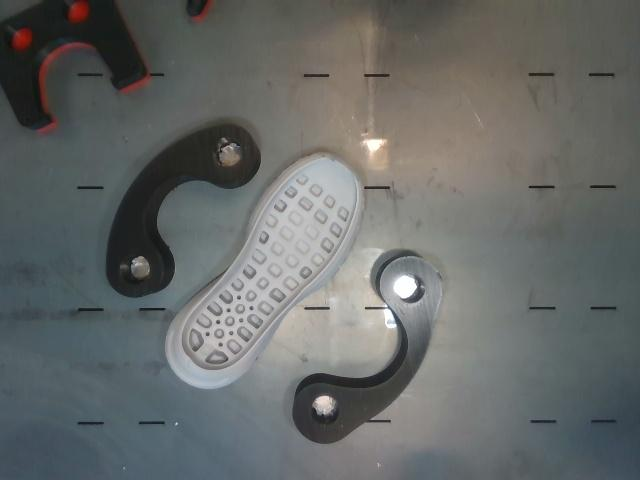shoes: (181, 159, 356, 370)
